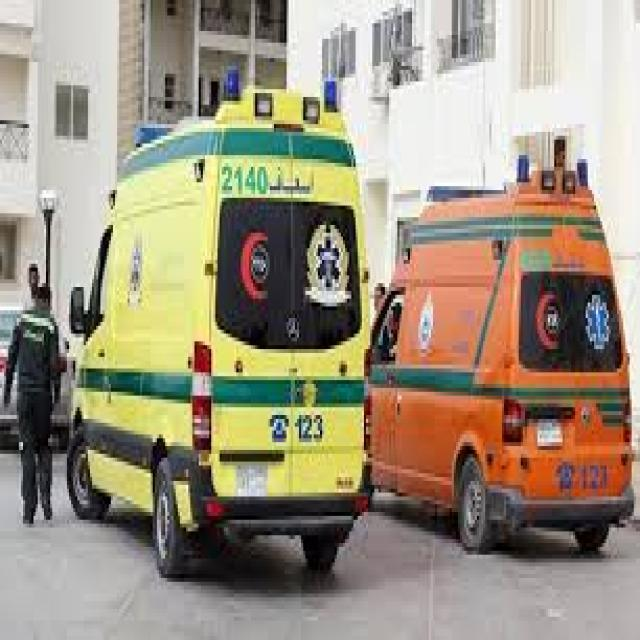Ambulance: (65, 66, 372, 578), (364, 128, 634, 555)
person: (2, 279, 59, 524)
